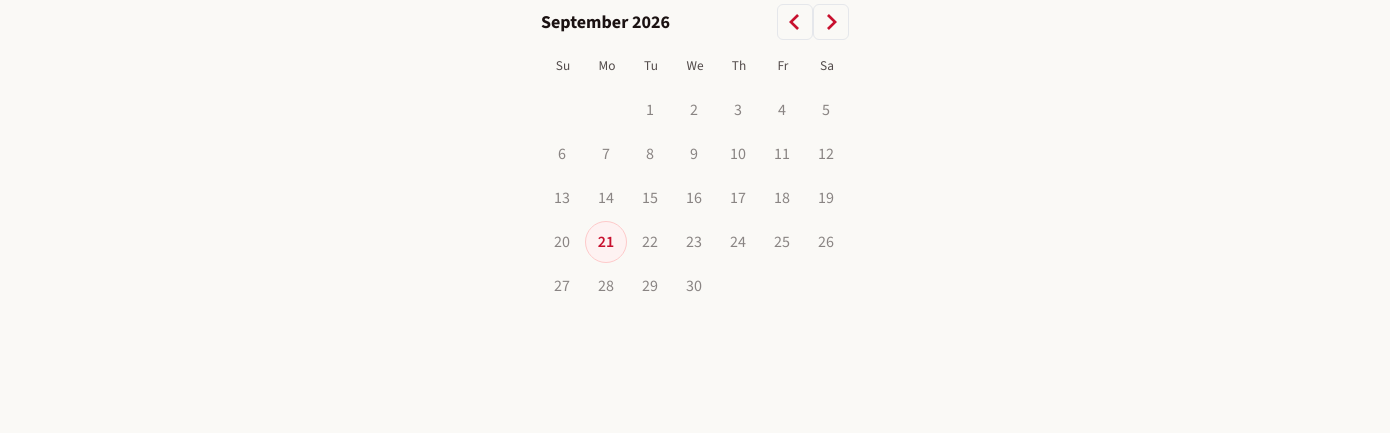
Test: BookingCalendar › shows the confirm button already enabled for a day with one arrival time
Click the button named "September 21st, 2026": (606, 242) [585, 221, 627, 263]
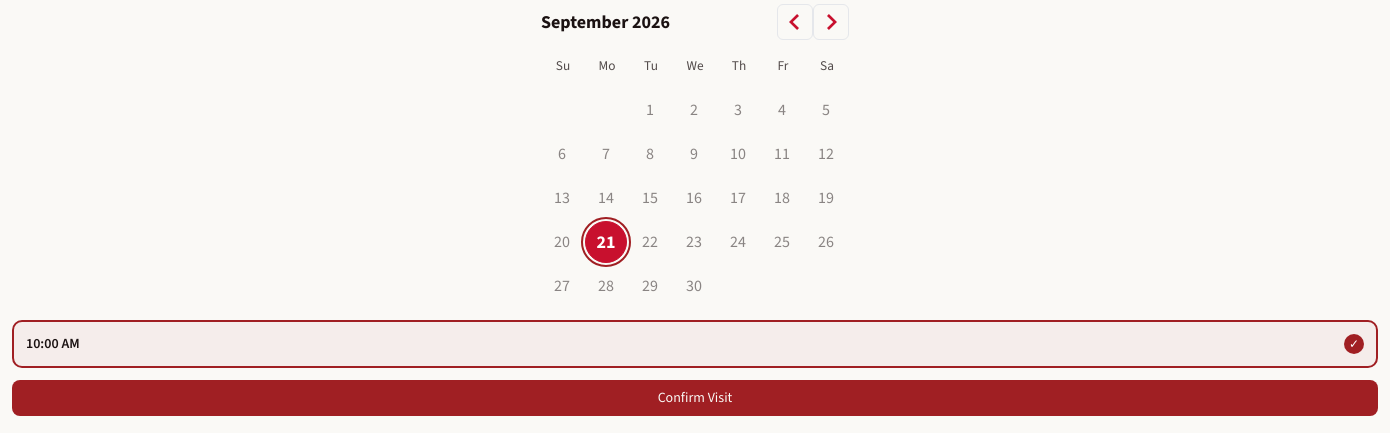
Now the button "Confirm Visit" is enabled, box [12, 380, 1378, 416]
